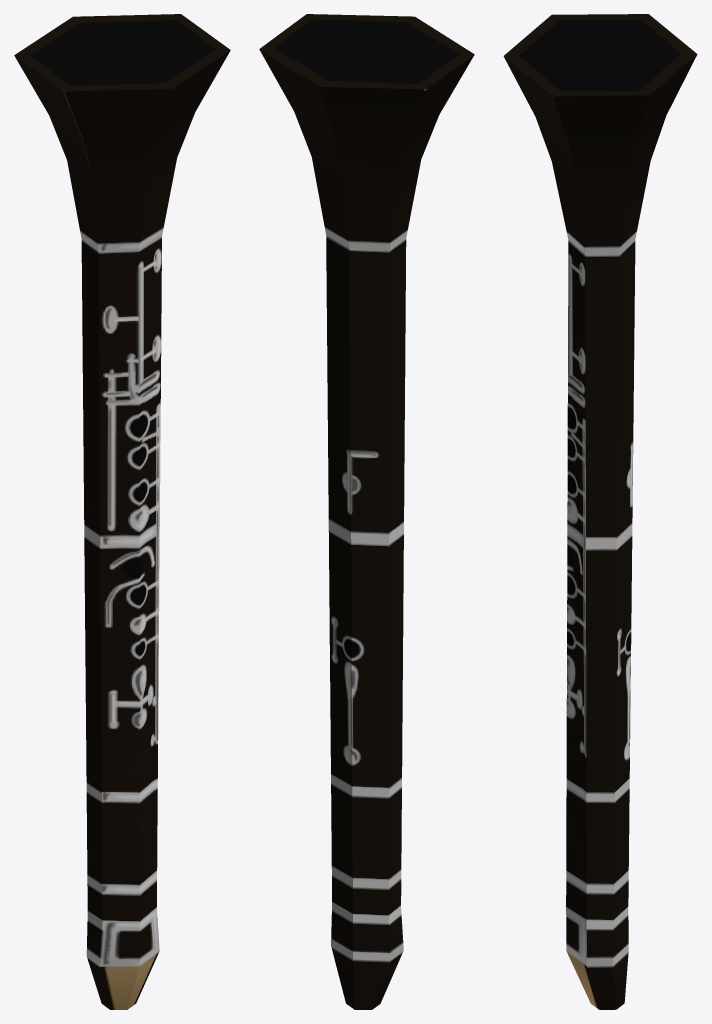
Rendered from flauta3_000001.obj.
The picture shows the model from 3 angles, left to right: view 1: azimuth 30°, elevation 25°; view 2: azimuth 150°, elevation 25°; view 3: azimuth 270°, elevation 25°; orthographic projection.
Visible parts, largest first — view 1: f3_Flauta_3:Flauta_2:Flauta_1:pCylinder3; view 2: f3_Flauta_3:Flauta_2:Flauta_1:pCylinder3; view 3: f3_Flauta_3:Flauta_2:Flauta_1:pCylinder3.
Boxes of the visible parts, x1,y1,x2,y2 form: f3_Flauta_3:Flauta_2:Flauta_1:pCylinder3: [14, 14, 230, 1009]; f3_Flauta_3:Flauta_2:Flauta_1:pCylinder3: [259, 14, 474, 1009]; f3_Flauta_3:Flauta_2:Flauta_1:pCylinder3: [503, 14, 697, 1009].
Bounding box in the file's own units: 1.07 × 5.79 × 1.07.
